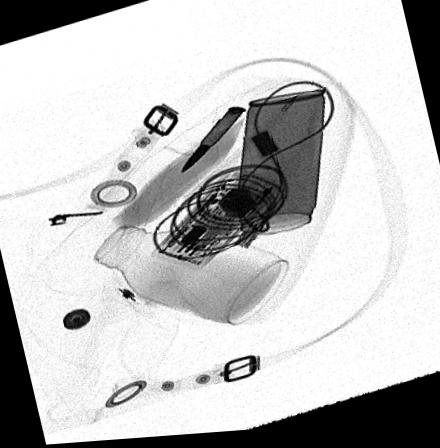Bullet: (179, 109, 247, 175)
